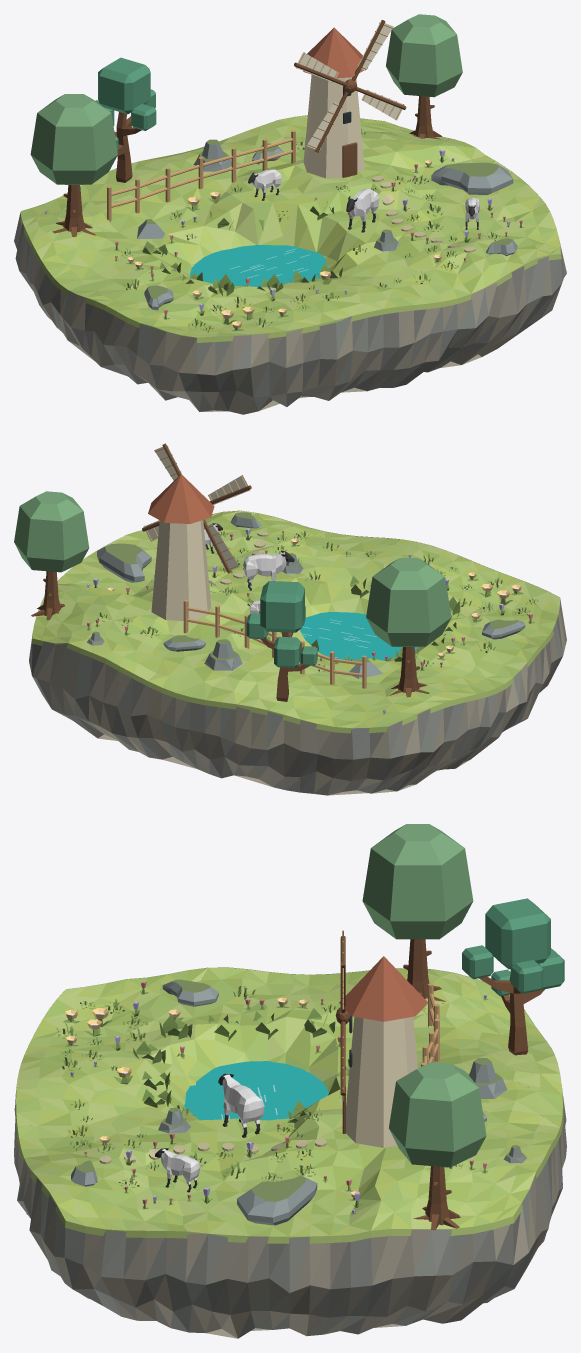
The model's file is grassland.glb.
The picture shows the model from 3 angles, top to bottom: view 1: azimuth 30°, elevation 25°; view 2: azimuth 150°, elevation 25°; view 3: azimuth 270°, elevation 25°; orthographic projection. The views are drawn at different scales.
Parts seen in each view (by area): view 1: 三角切面·地表.003, 浮岛·岩层剖面.003, 草原阔叶树, 草原阔叶树.002, 草原阔叶树.001, 草原池塘, 风车·塔身, 表层边缘.003, 散落岩石.036, 风车·尖顶, 牧场绵羊, 散落岩石.035 (+3 smaller); view 2: 三角切面·地表.003, 浮岛·岩层剖面.003, 草原阔叶树, 草原阔叶树.002, 风车·塔身, 草原阔叶树.001, 草原池塘, 表层边缘.003, 风车·尖顶, 散落岩石.036, 牧场绵羊, 散落岩石.035 (+2 smaller); view 3: 三角切面·地表.003, 浮岛·岩层剖面.003, 草原阔叶树, 草原阔叶树.002, 草原阔叶树.001, 风车·塔身, 草原池塘, 表层边缘.003, 风车·尖顶, 散落岩石.036, 牧场绵羊, 散落岩石.042 (+2 smaller).
Boxes of the visible parts, x1,y1,x2,y2 form: 三角切面·地表.003: (20,115,560,337); 浮岛·岩层剖面.003: (14,137,566,414); 草原阔叶树: (30,94,117,236); 草原阔叶树.002: (386,14,462,139); 草原阔叶树.001: (95,57,156,182); 草原池塘: (190,245,327,287); 风车·塔身: (303,75,364,178); 表层边缘.003: (20,115,561,342); 散落岩石.036: (431,162,513,194); 风车·尖顶: (303,27,367,78); 牧场绵羊: (346,188,379,232); 散落岩石.035: (193,139,231,171); 三角切面·地表.003: (32,510,559,728); 浮岛·岩层剖面.003: (29,526,566,795); 草原阔叶树: (366,558,451,697); 草原阔叶树.002: (14,491,89,620); 风车·塔身: (151,520,210,620); 草原阔叶树.001: (246,581,317,701); 草原池塘: (299,612,417,660); 表层边缘.003: (31,510,560,733); 风车·尖顶: (148,474,214,523); 散落岩石.036: (97,543,151,582); 牧场绵羊: (243,550,294,590); 散落岩石.035: (204,639,242,670); 三角切面·地表.003: (16,967,562,1236); 浮岛·岩层剖面.003: (14,989,566,1338); 草原阔叶树: (362,824,473,1003); 草原阔叶树.002: (389,1062,486,1230); 草原阔叶树.001: (462,898,564,1055); 风车·塔身: (346,1016,417,1147); 草原池塘: (184,1061,328,1120); 表层边缘.003: (15,967,563,1243); 风车·尖顶: (339,956,428,1021); 散落岩石.036: (237,1175,317,1225); 牧场绵羊: (218,1073,264,1137); 散落岩石.042: (162,979,218,1006).
Size of the model in its own units: 14.18 by 7.81 by 11.73.
